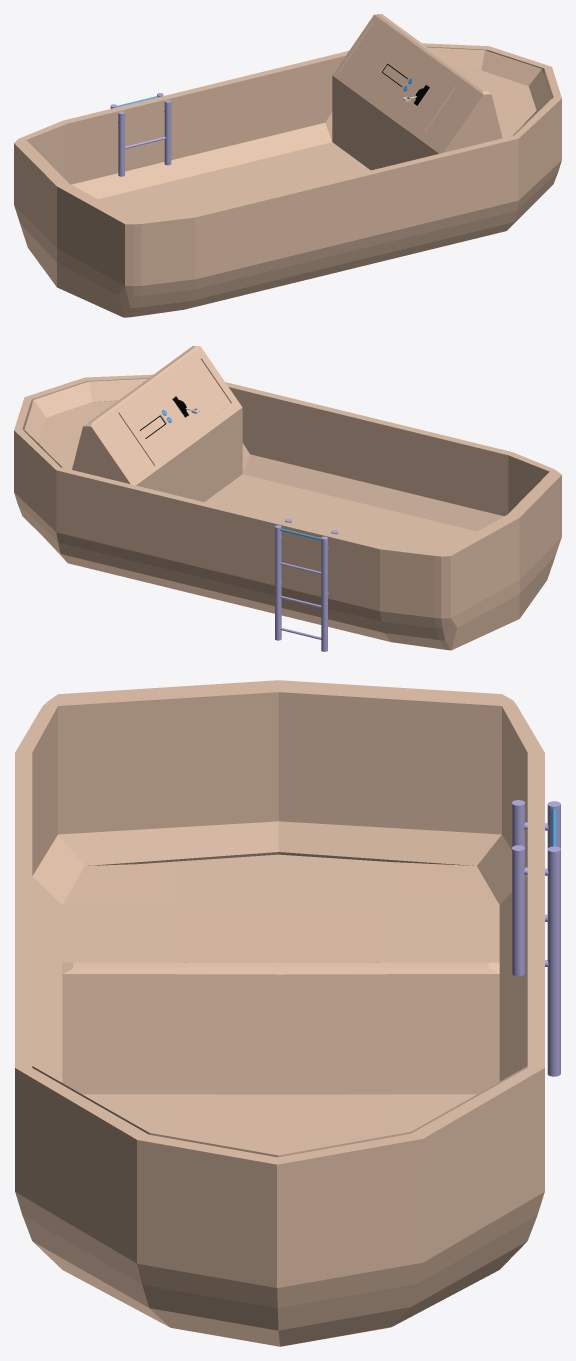
File: TempBoat.fbx
The picture shows the model from 3 angles, top to bottom: view 1: azimuth 30°, elevation 25°; view 2: azimuth 150°, elevation 25°; view 3: azimuth 270°, elevation 25°; orthographic projection. The views are drawn at different scales.
Visible parts, largest first — view 1: Boat; view 2: Boat; view 3: Boat.
Boxes of the visible parts, <box> form: Boat: <box>14,14,561,317</box>; Boat: <box>14,346,561,651</box>; Boat: <box>15,680,560,1346</box>.
Size of the model in its own units: 836 by 249 by 400.
